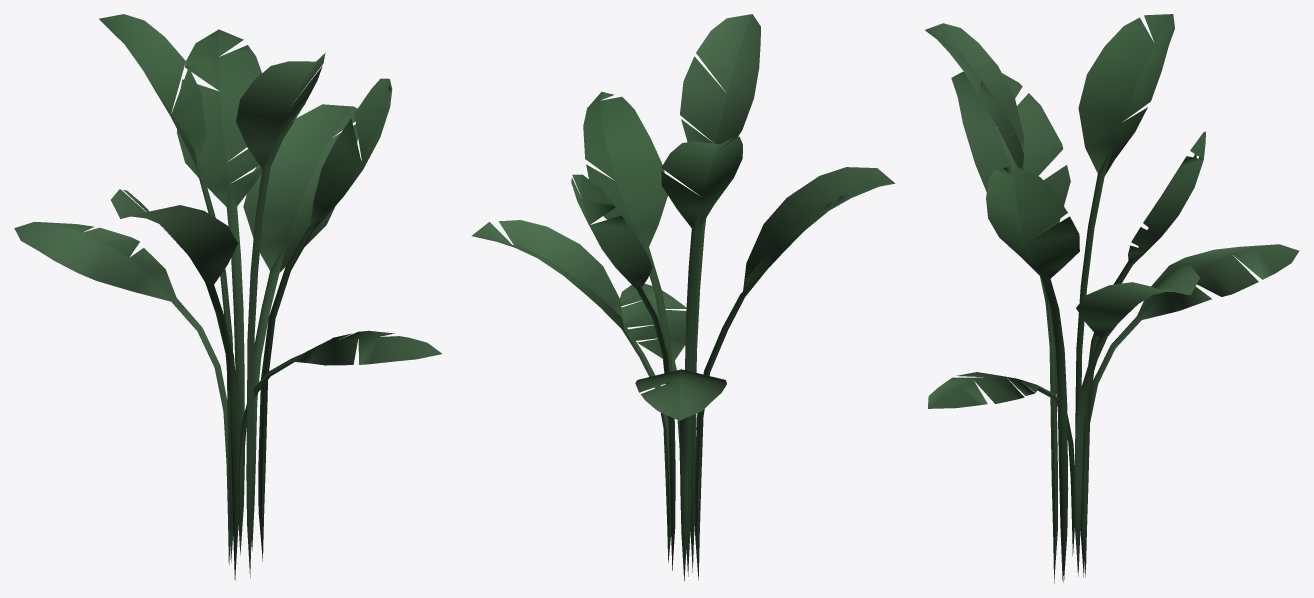
The picture shows the model from 3 angles, left to right: view 1: azimuth 30°, elevation 25°; view 2: azimuth 150°, elevation 25°; view 3: azimuth 270°, elevation 25°; orthographic projection. The views are drawn at different scales.
Visible parts, largest first — view 1: alt303; view 2: alt303; view 3: alt303.
Part boxes in pixels (x1=…): alt303: x1=14, y1=14, x2=441, y2=580; alt303: x1=472, y1=14, x2=895, y2=581; alt303: x1=925, y1=14, x2=1299, y2=583.
Size of the model in its own units: 0.3205 by 0.5 by 0.3039.
